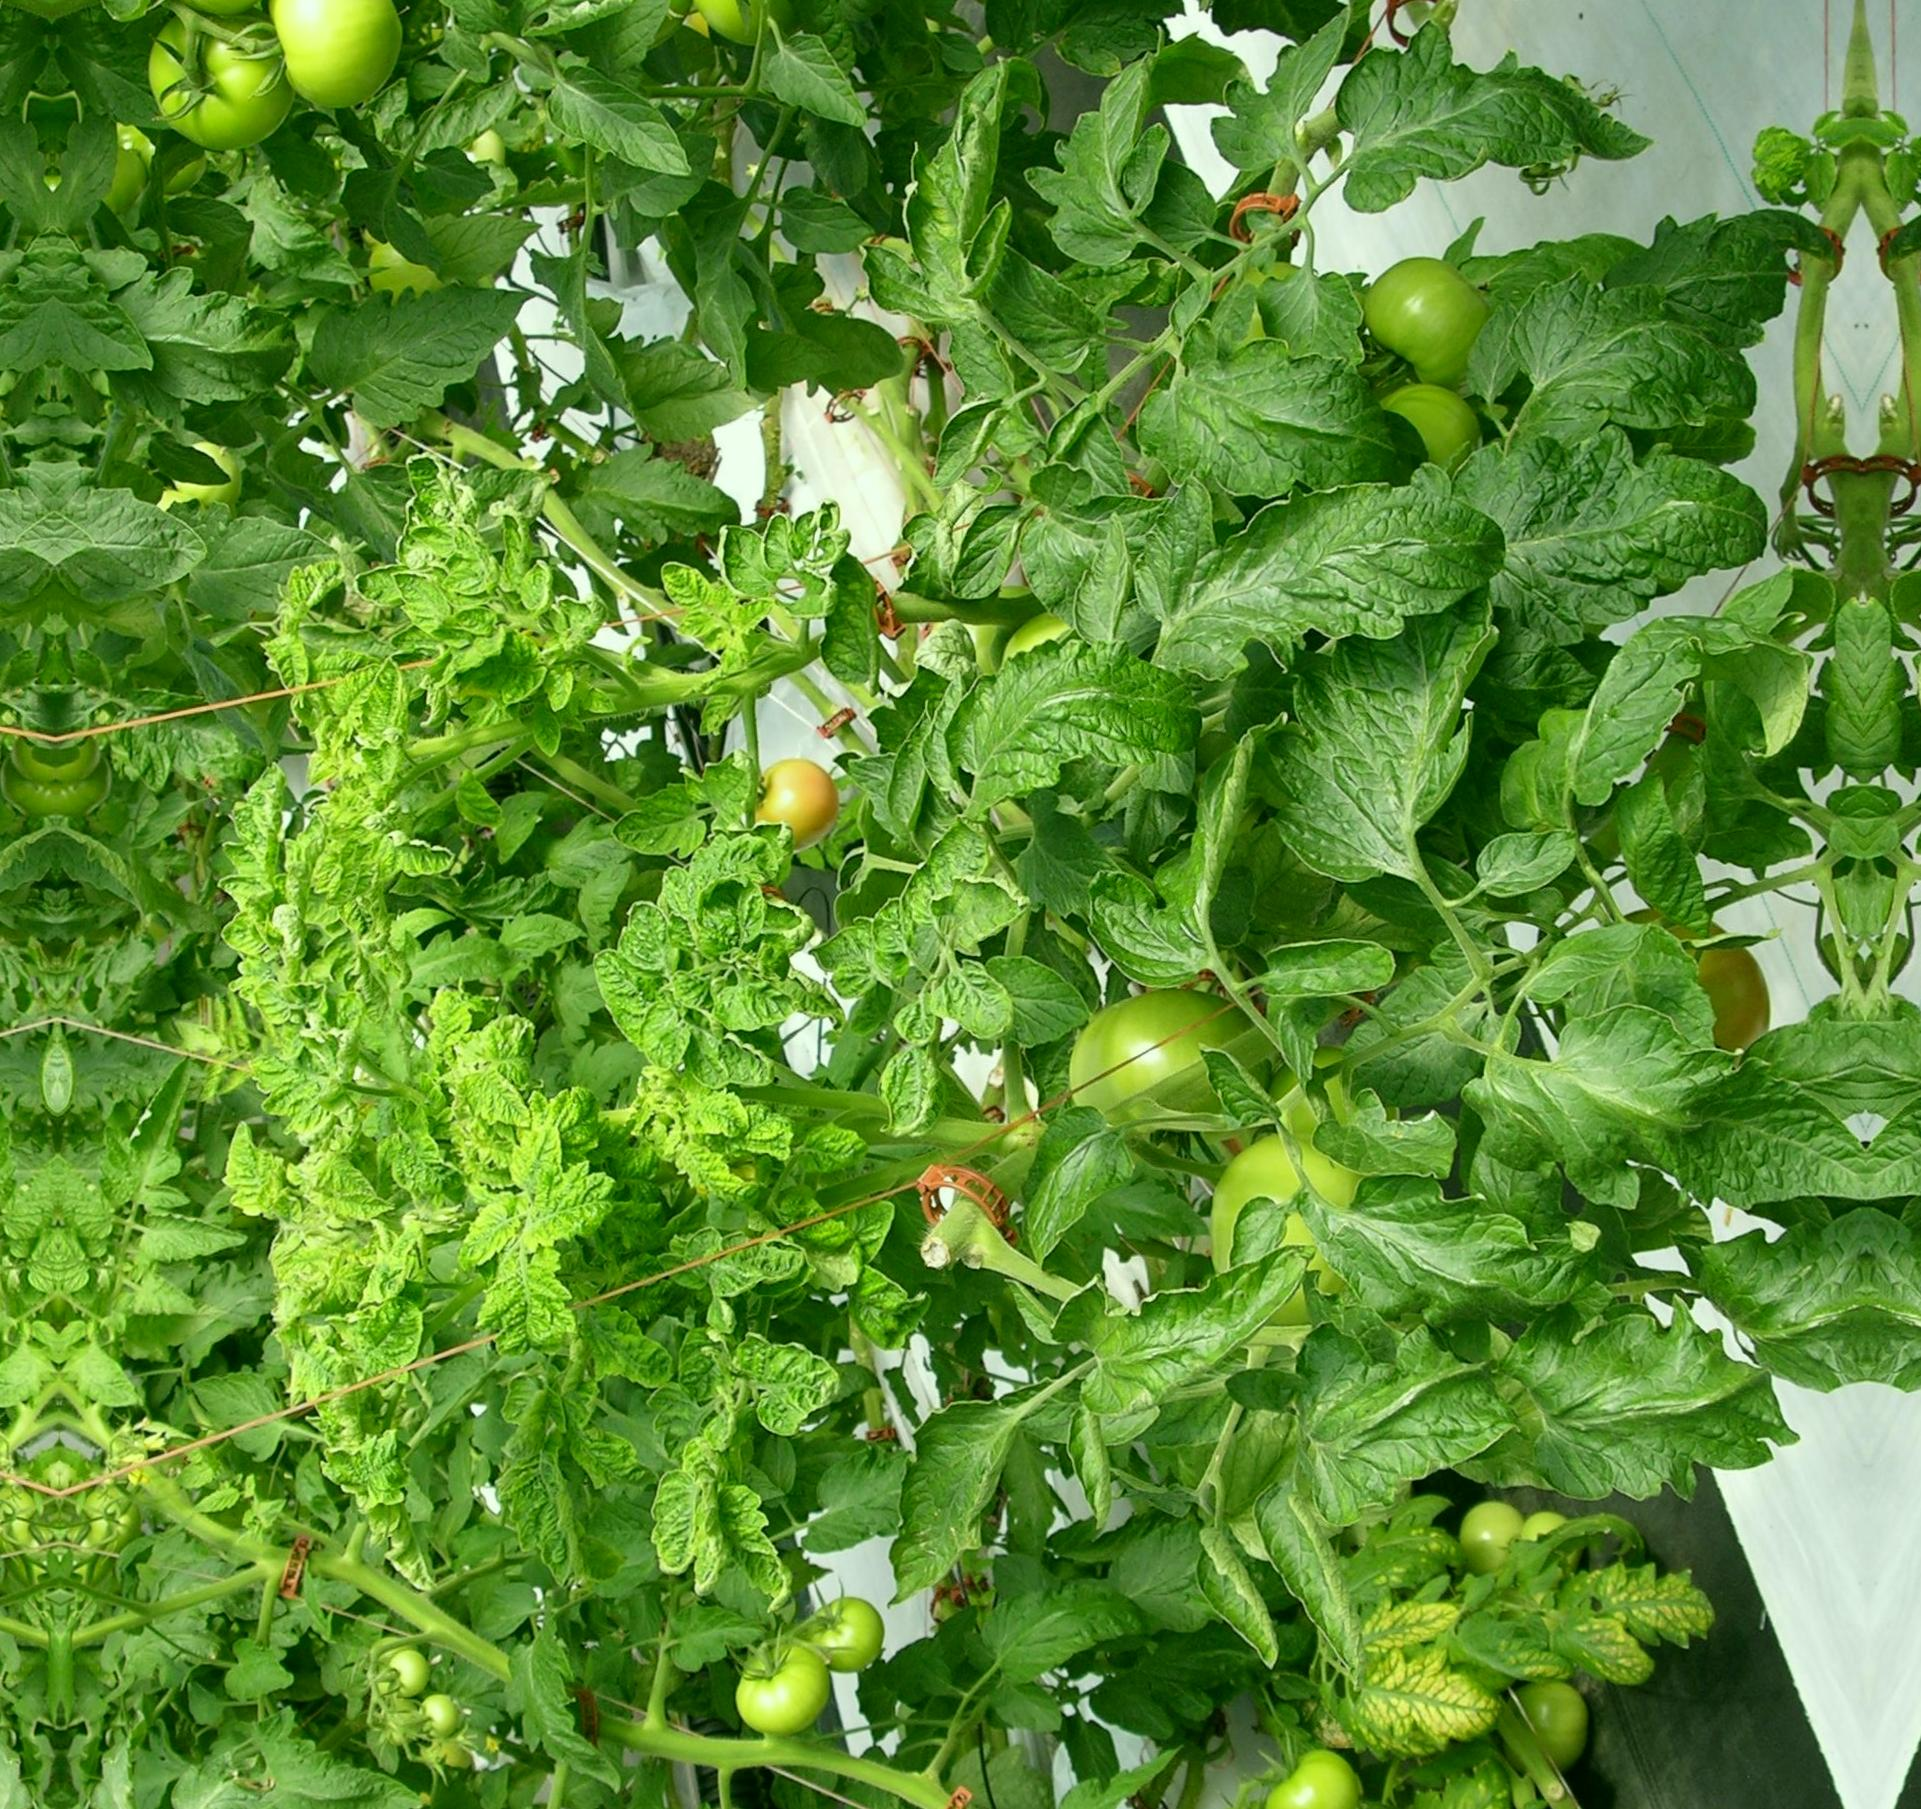Tomato leaf yellow virus: (1187, 458, 1517, 659), (947, 630, 1217, 836), (1456, 1527, 1726, 1690), (645, 1425, 815, 1608), (1331, 1646, 1497, 1758), (733, 1313, 852, 1460), (436, 993, 542, 1136), (483, 1242, 584, 1384), (617, 1062, 780, 1140), (596, 774, 721, 866), (302, 1131, 408, 1230), (449, 625, 551, 712), (645, 542, 732, 642), (672, 1143, 786, 1219), (362, 821, 465, 893), (525, 1166, 620, 1241), (392, 563, 455, 635)
